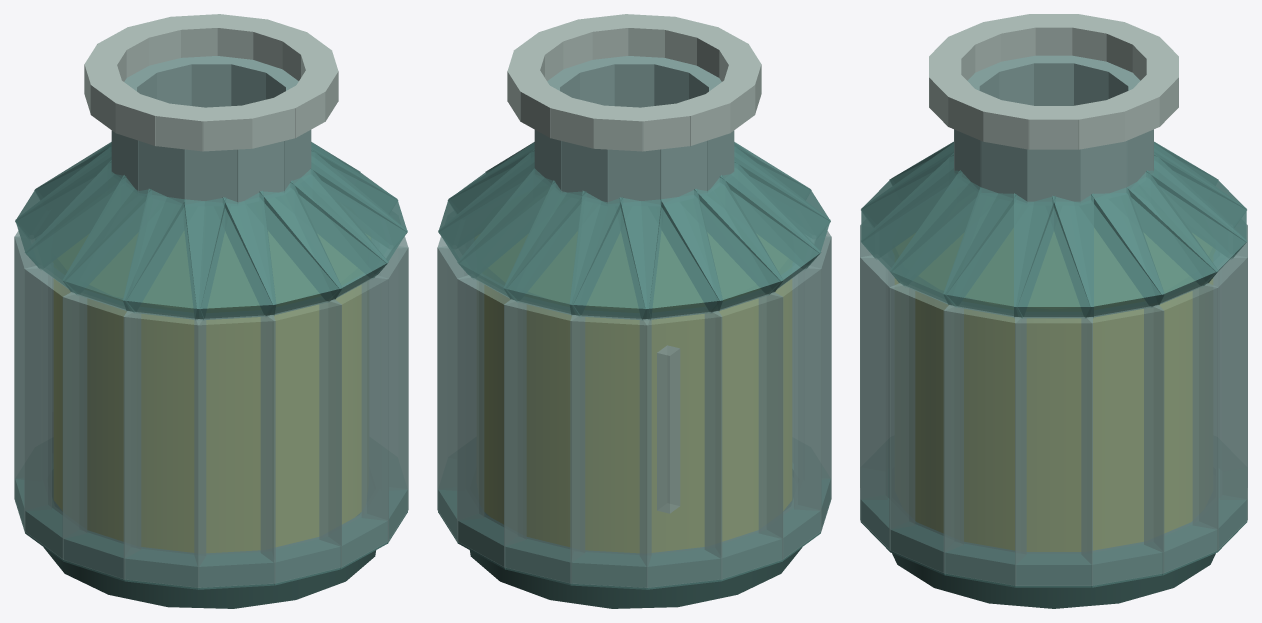
The model's file is CMU3DBottleKelotaneCloud.glb.
3 renders of one model, left to right at view 1: azimuth 30°, elevation 25°; view 2: azimuth 150°, elevation 25°; view 3: azimuth 270°, elevation 25°, orthographic.
Visible parts, largest first — view 1: static liquid volume level 5, hollow bottle wall 11, hollow bottle wall 12, hollow bottle wall 13, hollow bottle wall 10, hollow bottle wall 14, hollow bottle wall 09, hollow bottle wall 15, inward glass shoulder 11, inward glass shoulder 13, inward glass shoulder 12, hollow bottle wall 08 (+45 smaller); view 2: static liquid volume level 5, hollow bottle wall 07, hollow bottle wall 06, hollow bottle wall 05, hollow bottle wall 08, hollow bottle wall 04, hollow bottle wall 09, hollow bottle wall 03, inward glass shoulder 07, inward glass shoulder 05, inward glass shoulder 06, hollow bottle wall 10 (+46 smaller); view 3: static liquid volume level 5, hollow bottle wall 02, hollow bottle wall 16, hollow bottle wall 01, hollow bottle wall 03, hollow bottle wall 15, hollow bottle wall 04, hollow bottle wall 14, inward glass shoulder 02, inward glass shoulder 16, inward glass shoulder 01, inward glass shoulder 03 (+43 smaller).
Boxes of the visible parts, box(x1,y1,x2,y2) form: static liquid volume level 5: box(54, 279, 360, 552); hollow bottle wall 11: box(123, 310, 205, 587); hollow bottle wall 12: box(194, 314, 275, 587); hollow bottle wall 13: box(261, 299, 341, 583); hollow bottle wall 10: box(62, 292, 140, 579); hollow bottle wall 14: box(319, 275, 388, 567); hollow bottle wall 09: box(24, 265, 86, 559); hollow bottle wall 15: box(362, 246, 408, 541); inward glass shoulder 11: box(123, 188, 226, 320); inward glass shoulder 13: box(222, 180, 342, 316); inward glass shoulder 12: box(184, 190, 276, 320); hollow bottle wall 08: box(14, 236, 51, 531); static liquid volume level 5: box(485, 279, 791, 552); hollow bottle wall 07: box(640, 310, 722, 587); hollow bottle wall 06: box(570, 314, 651, 587); hollow bottle wall 05: box(504, 299, 584, 583); hollow bottle wall 08: box(705, 292, 783, 579); hollow bottle wall 04: box(457, 275, 526, 567); hollow bottle wall 09: box(759, 265, 821, 559); hollow bottle wall 03: box(437, 246, 483, 541); inward glass shoulder 07: box(619, 188, 722, 320); inward glass shoulder 05: box(503, 180, 623, 316); inward glass shoulder 06: box(569, 190, 661, 320); hollow bottle wall 10: box(794, 236, 831, 531); static liquid volume level 5: box(895, 279, 1212, 551); hollow bottle wall 02: box(1081, 305, 1164, 585); hollow bottle wall 16: box(943, 305, 1026, 585); hollow bottle wall 01: box(1015, 315, 1092, 585); hollow bottle wall 03: box(1144, 283, 1218, 573); hollow bottle wall 15: box(889, 283, 963, 573); hollow bottle wall 04: box(1193, 255, 1247, 550); hollow bottle wall 14: box(860, 255, 914, 550); inward glass shoulder 02: box(1052, 187, 1164, 318); inward glass shoulder 16: box(943, 187, 1055, 318); inward glass shoulder 01: box(1014, 193, 1093, 317); inward glass shoulder 03: box(1091, 170, 1218, 307).
Size of the model in its own units: 0.3384 by 0.453 by 0.3384.
